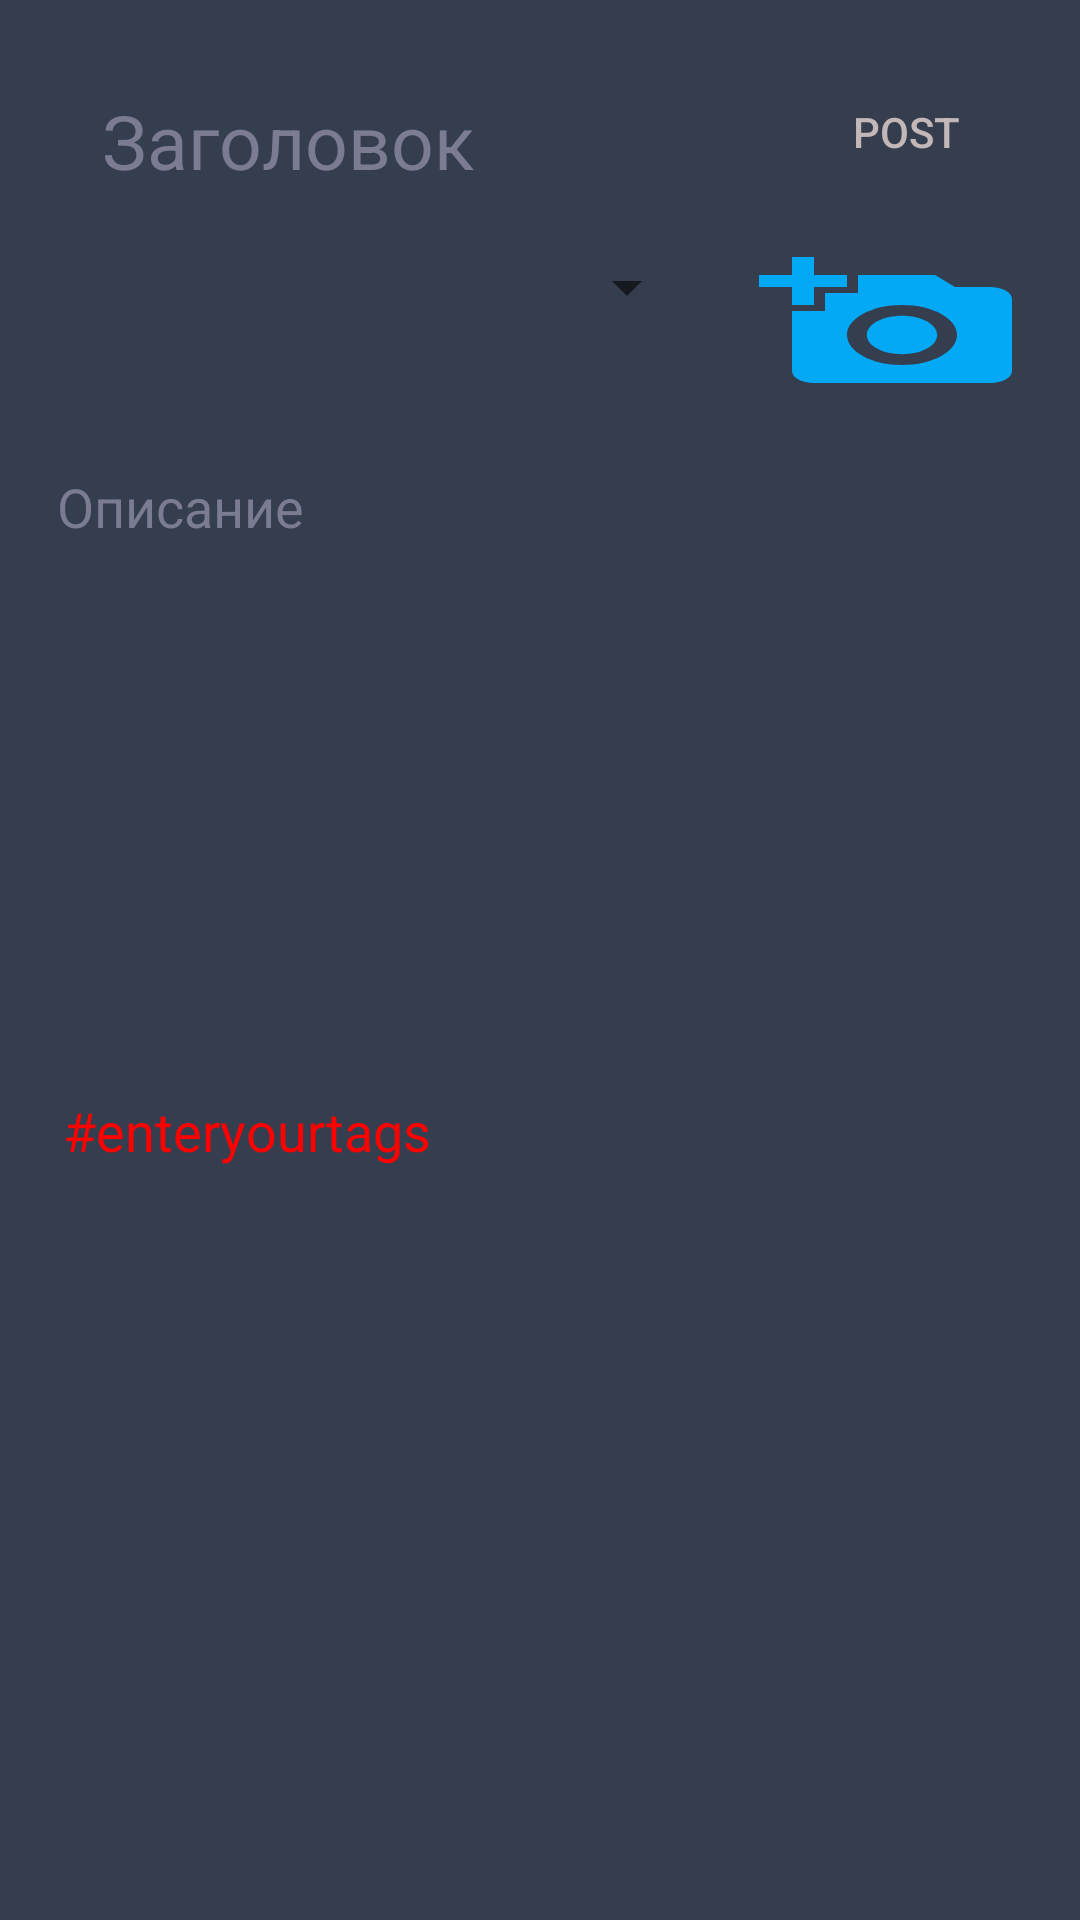

Where to tap for icons on this 1080w x 1920h app screen, as (x,y):
add photo: (885,320)
